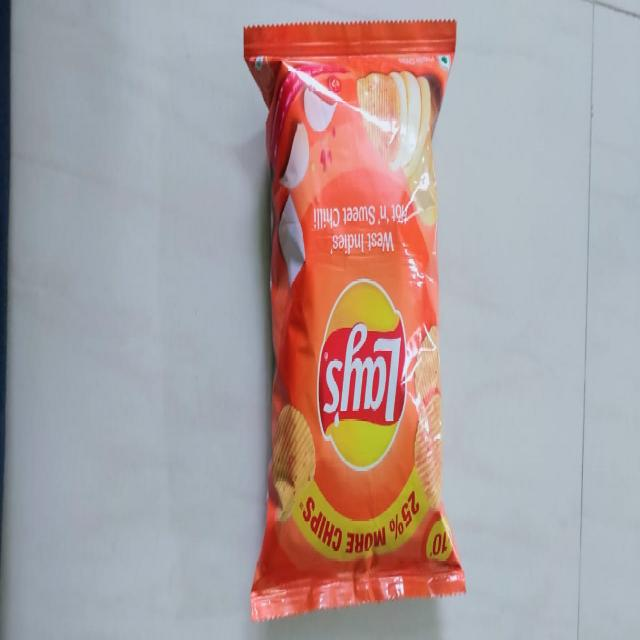lays: (248, 9, 464, 620)
